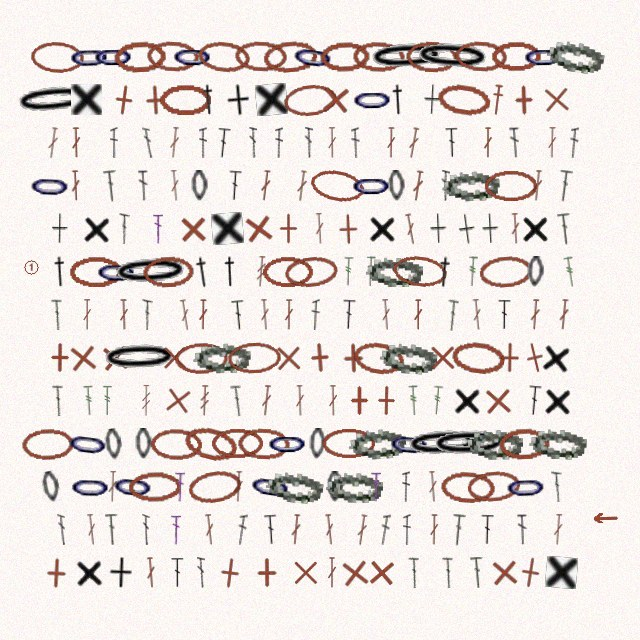chain: (13, 81, 93, 119), (367, 39, 446, 74), (413, 39, 492, 74), (111, 254, 190, 289), (404, 426, 483, 461), (100, 341, 179, 374), (430, 427, 508, 460), (181, 422, 240, 465), (545, 37, 606, 76), (308, 166, 366, 206), (186, 467, 244, 506), (435, 81, 492, 119), (351, 339, 407, 377), (265, 469, 324, 505), (391, 253, 448, 290), (450, 339, 506, 376), (348, 426, 407, 461), (283, 254, 340, 290), (282, 82, 338, 118), (379, 341, 438, 375), (196, 39, 251, 75), (262, 39, 318, 74), (466, 469, 522, 504), (478, 254, 533, 289), (442, 169, 500, 202), (193, 341, 251, 374), (529, 427, 587, 460), (30, 40, 85, 74), (440, 470, 495, 504), (466, 428, 523, 460), (326, 471, 383, 503), (227, 341, 282, 374), (405, 40, 459, 73), (237, 427, 291, 460), (366, 256, 423, 287), (174, 342, 229, 374), (113, 40, 166, 73), (146, 40, 199, 73), (234, 40, 287, 73), (454, 40, 507, 73), (142, 255, 195, 288), (498, 427, 551, 460), (247, 468, 294, 505), (352, 41, 406, 73), (21, 428, 74, 460), (150, 428, 203, 460), (128, 471, 181, 503), (322, 428, 376, 459), (319, 41, 371, 73), (290, 39, 336, 75), (65, 426, 111, 462), (484, 170, 537, 201), (69, 256, 122, 287), (159, 84, 211, 115), (262, 256, 314, 287), (211, 428, 263, 459), (110, 469, 156, 504), (491, 41, 542, 72), (387, 427, 432, 461), (28, 170, 72, 202), (504, 471, 548, 503), (68, 41, 111, 73), (95, 256, 138, 288), (69, 471, 112, 503), (92, 41, 135, 72), (171, 41, 214, 72), (522, 41, 565, 72), (351, 84, 394, 115), (350, 170, 393, 201), (266, 428, 309, 459), (40, 470, 62, 503), (104, 428, 123, 460), (191, 170, 208, 201), (388, 170, 405, 201), (527, 256, 544, 287), (135, 428, 152, 459), (309, 428, 326, 459), (327, 471, 343, 502)
double: (103, 170, 119, 202), (557, 170, 573, 202), (557, 213, 573, 245), (216, 127, 231, 159), (406, 127, 421, 159), (403, 213, 418, 245), (231, 299, 246, 331), (451, 514, 466, 546), (527, 385, 542, 416), (470, 557, 485, 588), (46, 127, 60, 159), (295, 170, 309, 202), (411, 170, 425, 202), (178, 299, 192, 331), (445, 299, 459, 331), (355, 514, 369, 546), (445, 127, 459, 158), (228, 170, 242, 201), (342, 299, 356, 330), (105, 514, 119, 545), (264, 514, 278, 545), (168, 127, 181, 158), (259, 170, 272, 201), (531, 170, 544, 201), (498, 299, 511, 330), (230, 385, 243, 416), (260, 385, 273, 416), (85, 514, 98, 545), (203, 514, 216, 545), (323, 514, 336, 545), (481, 514, 494, 545), (171, 557, 184, 588), (142, 127, 154, 158), (509, 127, 521, 158), (169, 170, 181, 201), (118, 213, 130, 244), (141, 299, 153, 330), (259, 299, 271, 330), (380, 299, 392, 330), (471, 299, 483, 330), (529, 299, 541, 330), (558, 299, 570, 330), (427, 471, 439, 502), (551, 471, 563, 502), (236, 514, 248, 545), (290, 514, 302, 545), (379, 514, 391, 545), (552, 514, 564, 545), (145, 557, 157, 588), (70, 170, 81, 201), (138, 170, 149, 201), (314, 213, 325, 244), (510, 213, 521, 244), (51, 299, 62, 330), (52, 385, 63, 416), (107, 471, 118, 502), (233, 471, 244, 502), (517, 514, 528, 545), (408, 557, 419, 588), (442, 557, 453, 588), (71, 127, 81, 158), (327, 127, 337, 158), (386, 127, 396, 158), (483, 127, 493, 158), (547, 127, 557, 158), (569, 127, 579, 158), (440, 170, 450, 201), (153, 213, 163, 244), (82, 299, 92, 330), (119, 299, 129, 330), (198, 299, 208, 330), (284, 299, 294, 330), (413, 299, 423, 330), (295, 385, 305, 416), (328, 385, 338, 416), (175, 471, 185, 502), (371, 471, 381, 502), (57, 514, 67, 545), (171, 514, 181, 545), (429, 514, 439, 545), (327, 557, 337, 588), (304, 127, 313, 158), (351, 127, 360, 158), (311, 299, 320, 330), (110, 127, 118, 158), (199, 127, 207, 158), (249, 127, 257, 158), (275, 127, 283, 158), (402, 471, 410, 502), (142, 514, 150, 545), (403, 514, 411, 545), (197, 557, 205, 588)
half_double: (192, 256, 213, 288), (434, 256, 455, 288), (199, 84, 218, 115), (389, 84, 407, 115), (51, 256, 69, 287), (221, 256, 239, 287), (490, 84, 505, 116)
noise: (22, 258, 40, 276), (591, 513, 618, 523)
single: (517, 339, 553, 376), (241, 211, 276, 246), (513, 555, 548, 590), (161, 383, 195, 418), (107, 83, 141, 117), (66, 341, 100, 375), (98, 341, 132, 375), (213, 556, 247, 590), (338, 556, 372, 590), (540, 341, 573, 375), (255, 83, 288, 116), (319, 83, 352, 116), (540, 83, 573, 116), (211, 212, 244, 245), (365, 556, 398, 589), (488, 556, 521, 589), (545, 556, 578, 589), (304, 341, 336, 374), (139, 84, 171, 116), (508, 84, 540, 116), (177, 213, 209, 245), (332, 213, 364, 245), (337, 342, 369, 374), (482, 385, 514, 417), (40, 557, 72, 589), (273, 342, 304, 374), (71, 84, 102, 115), (273, 213, 304, 244), (159, 342, 190, 373), (427, 342, 458, 373), (494, 342, 525, 373), (344, 385, 375, 416), (371, 385, 402, 416), (251, 557, 282, 588), (290, 557, 321, 588), (82, 213, 112, 245), (543, 385, 573, 417), (45, 342, 75, 373), (368, 213, 397, 244), (521, 213, 550, 244), (453, 385, 482, 416), (75, 557, 104, 588), (225, 84, 251, 116), (108, 557, 133, 588), (457, 213, 477, 245), (424, 84, 441, 115), (430, 213, 447, 244), (482, 213, 499, 244), (52, 213, 68, 244)
treble: (563, 256, 577, 288), (431, 385, 444, 416), (255, 256, 267, 287), (83, 385, 95, 416), (343, 256, 354, 287), (365, 256, 376, 287), (467, 256, 478, 287), (102, 385, 113, 416), (199, 385, 210, 416), (408, 385, 419, 416), (141, 385, 151, 416)
